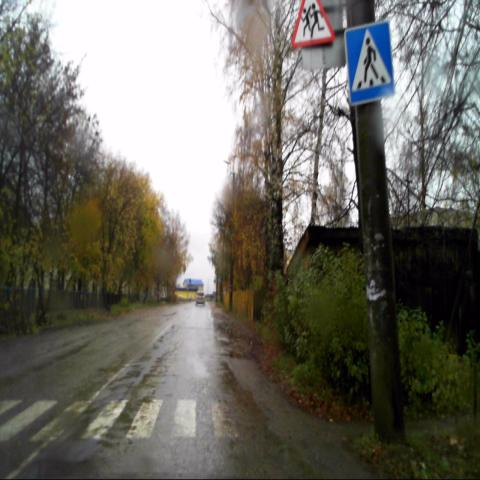5_19_1: (344, 20, 396, 105)
